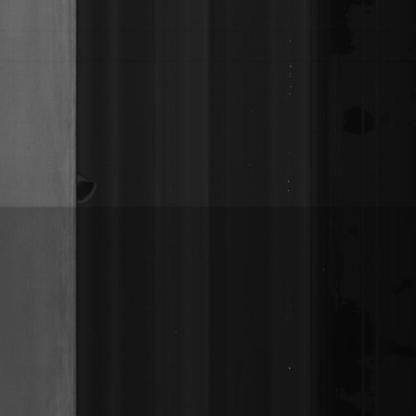welding_line: (2, 194, 85, 217)
